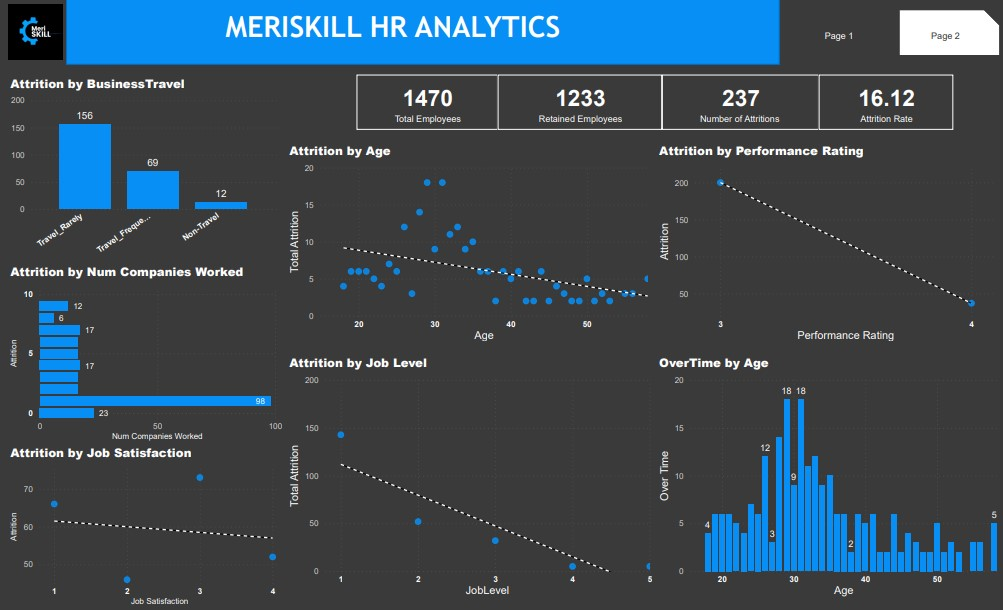

The page's visual inventory and layout, read from the dashboard file:
{"tool":"powerbi","page":{"name":"Page 2","canvas":[1480,900],"ordinal":1},"visuals":[{"type":"group","id":"g1","title":"Group 2","box":[528.2,111.2,879.8,80.1],"z":0},{"type":"card","fields":{"Values":["HR_Employee_Table.Total Number of Employees"]},"box":[528.2,111.2,207.6,80.8],"z":1000,"group":"g1"},{"type":"scatterChart","title":"Attrition by Age","fields":{"X":["HR_Employee_Table.Age"],"Y":["HR_Employee_Table.Total Attrition"]},"box":[424,209.5,544.5,298.6],"z":1000},{"type":"shape","title":"MERI","box":[100.2,0,1051.1,96.5],"z":2000,"group":"g2"},{"type":"scatterChart","title":"Attrition by Performance Rating","fields":{"Y":["HR_Employee_Table.Total Attrition"],"X":["HR_Employee_Table.PerformanceRating"]},"box":[968.5,209.5,511.5,298.6],"z":2000},{"type":"image","box":[9.8,0,90.4,96.5],"z":3000,"group":"g2"},{"type":"barChart","title":"Attrition by Num Companies Worked","fields":{"Category":["HR_Employee_Table.NumCompaniesWorked"],"Y":["HR_Employee_Table.Total Attrition"]},"box":[13.2,389.4,410.8,265.6],"z":3000},{"type":"textbox","box":[282.9,0,596.9,96.5],"z":4000,"group":"g2"},{"type":"scatterChart","title":"Attrition by Job Level","fields":{"Y":["HR_Employee_Table.Total Attrition"],"X":["HR_Employee_Table.JobLevel"]},"box":[424,523,544.5,361.3],"z":4000},{"type":"columnChart","title":"Attrition by BusinessTravel","fields":{"Category":["HR_Employee_Table.BusinessTravel"],"Y":["HR_Employee_Table.Total Attrition"]},"box":[13.2,110.5,402.6,278.8],"z":5000},{"type":"card","fields":{"Values":["Count(HR_Employee_Table.EmployeeNumber)"]},"box":[978.4,111.2,230.9,80.8],"z":5000,"group":"g1"},{"type":"group","id":"g2","title":"Group 1","box":[9.8,0,1141.5,96.5],"z":6000,"group":"g3"},{"type":"card","fields":{"Values":["HR_Employee_Table.Attrition Rate"]},"box":[1209.3,111.2,198.3,80.8],"z":6000,"group":"g1"},{"type":"scatterChart","title":"Attrition by Job Satisfaction ","fields":{"Y":["HR_Employee_Table.Total Attrition"],"X":["HR_Employee_Table.JobSatisfaction"]},"box":[13.2,655,410.8,244.2],"z":6000},{"type":"card","fields":{"Values":["Count(HR_Employee_Table.EmployeeNumber)"]},"box":[735.8,111.2,242.6,80.8],"z":7000,"group":"g1"},{"type":"columnChart","title":"OverTime by Age","fields":{"Category":["HR_Employee_Table.Age"],"Y":["CountNonNull(HR_Employee_Table.OverTime)"]},"box":[968.5,523,511.5,361.3],"z":7000},{"type":"pageNavigator","box":[1170.9,16.4,304.2,65.4],"z":7001,"group":"g3"},{"type":"group","id":"g3","title":"Group 3","box":[9.8,0,1465.3,96.5],"z":8000}]}

Visuals, with their boxes in screenshot pixels (x1, y1, x2, y2), scaled from the page's 1480x900 canvas onto the 1003x610 screenshot:
"Group 2" group: crop(358, 75, 954, 130)
card - HR_Employee_Table.Total Number of Employees: crop(358, 75, 499, 130)
"Attrition by Age" scatterChart: crop(287, 142, 656, 344)
"MERI" shape: crop(68, 0, 780, 65)
"Attrition by Performance Rating" scatterChart: crop(656, 142, 1002, 344)
image: crop(7, 0, 68, 65)
"Attrition by Num Companies Worked" barChart: crop(9, 264, 287, 444)
textbox: crop(192, 0, 596, 65)
"Attrition by Job Level" scatterChart: crop(287, 354, 656, 599)
"Attrition by BusinessTravel" columnChart: crop(9, 75, 282, 264)
card - Count(HR_Employee_Table.EmployeeNumber): crop(663, 75, 820, 130)
"Group 1" group: crop(7, 0, 780, 65)
card - HR_Employee_Table.Attrition Rate: crop(820, 75, 954, 130)
"Attrition by Job Satisfaction " scatterChart: crop(9, 444, 287, 609)
card - Count(HR_Employee_Table.EmployeeNumber): crop(499, 75, 663, 130)
"OverTime by Age" columnChart: crop(656, 354, 1002, 599)
pageNavigator: crop(794, 11, 1000, 55)
"Group 3" group: crop(7, 0, 1000, 65)
